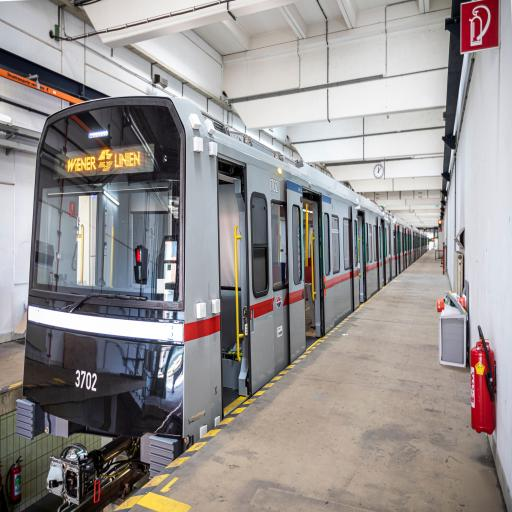X-Wagen: (14, 98, 429, 438)
